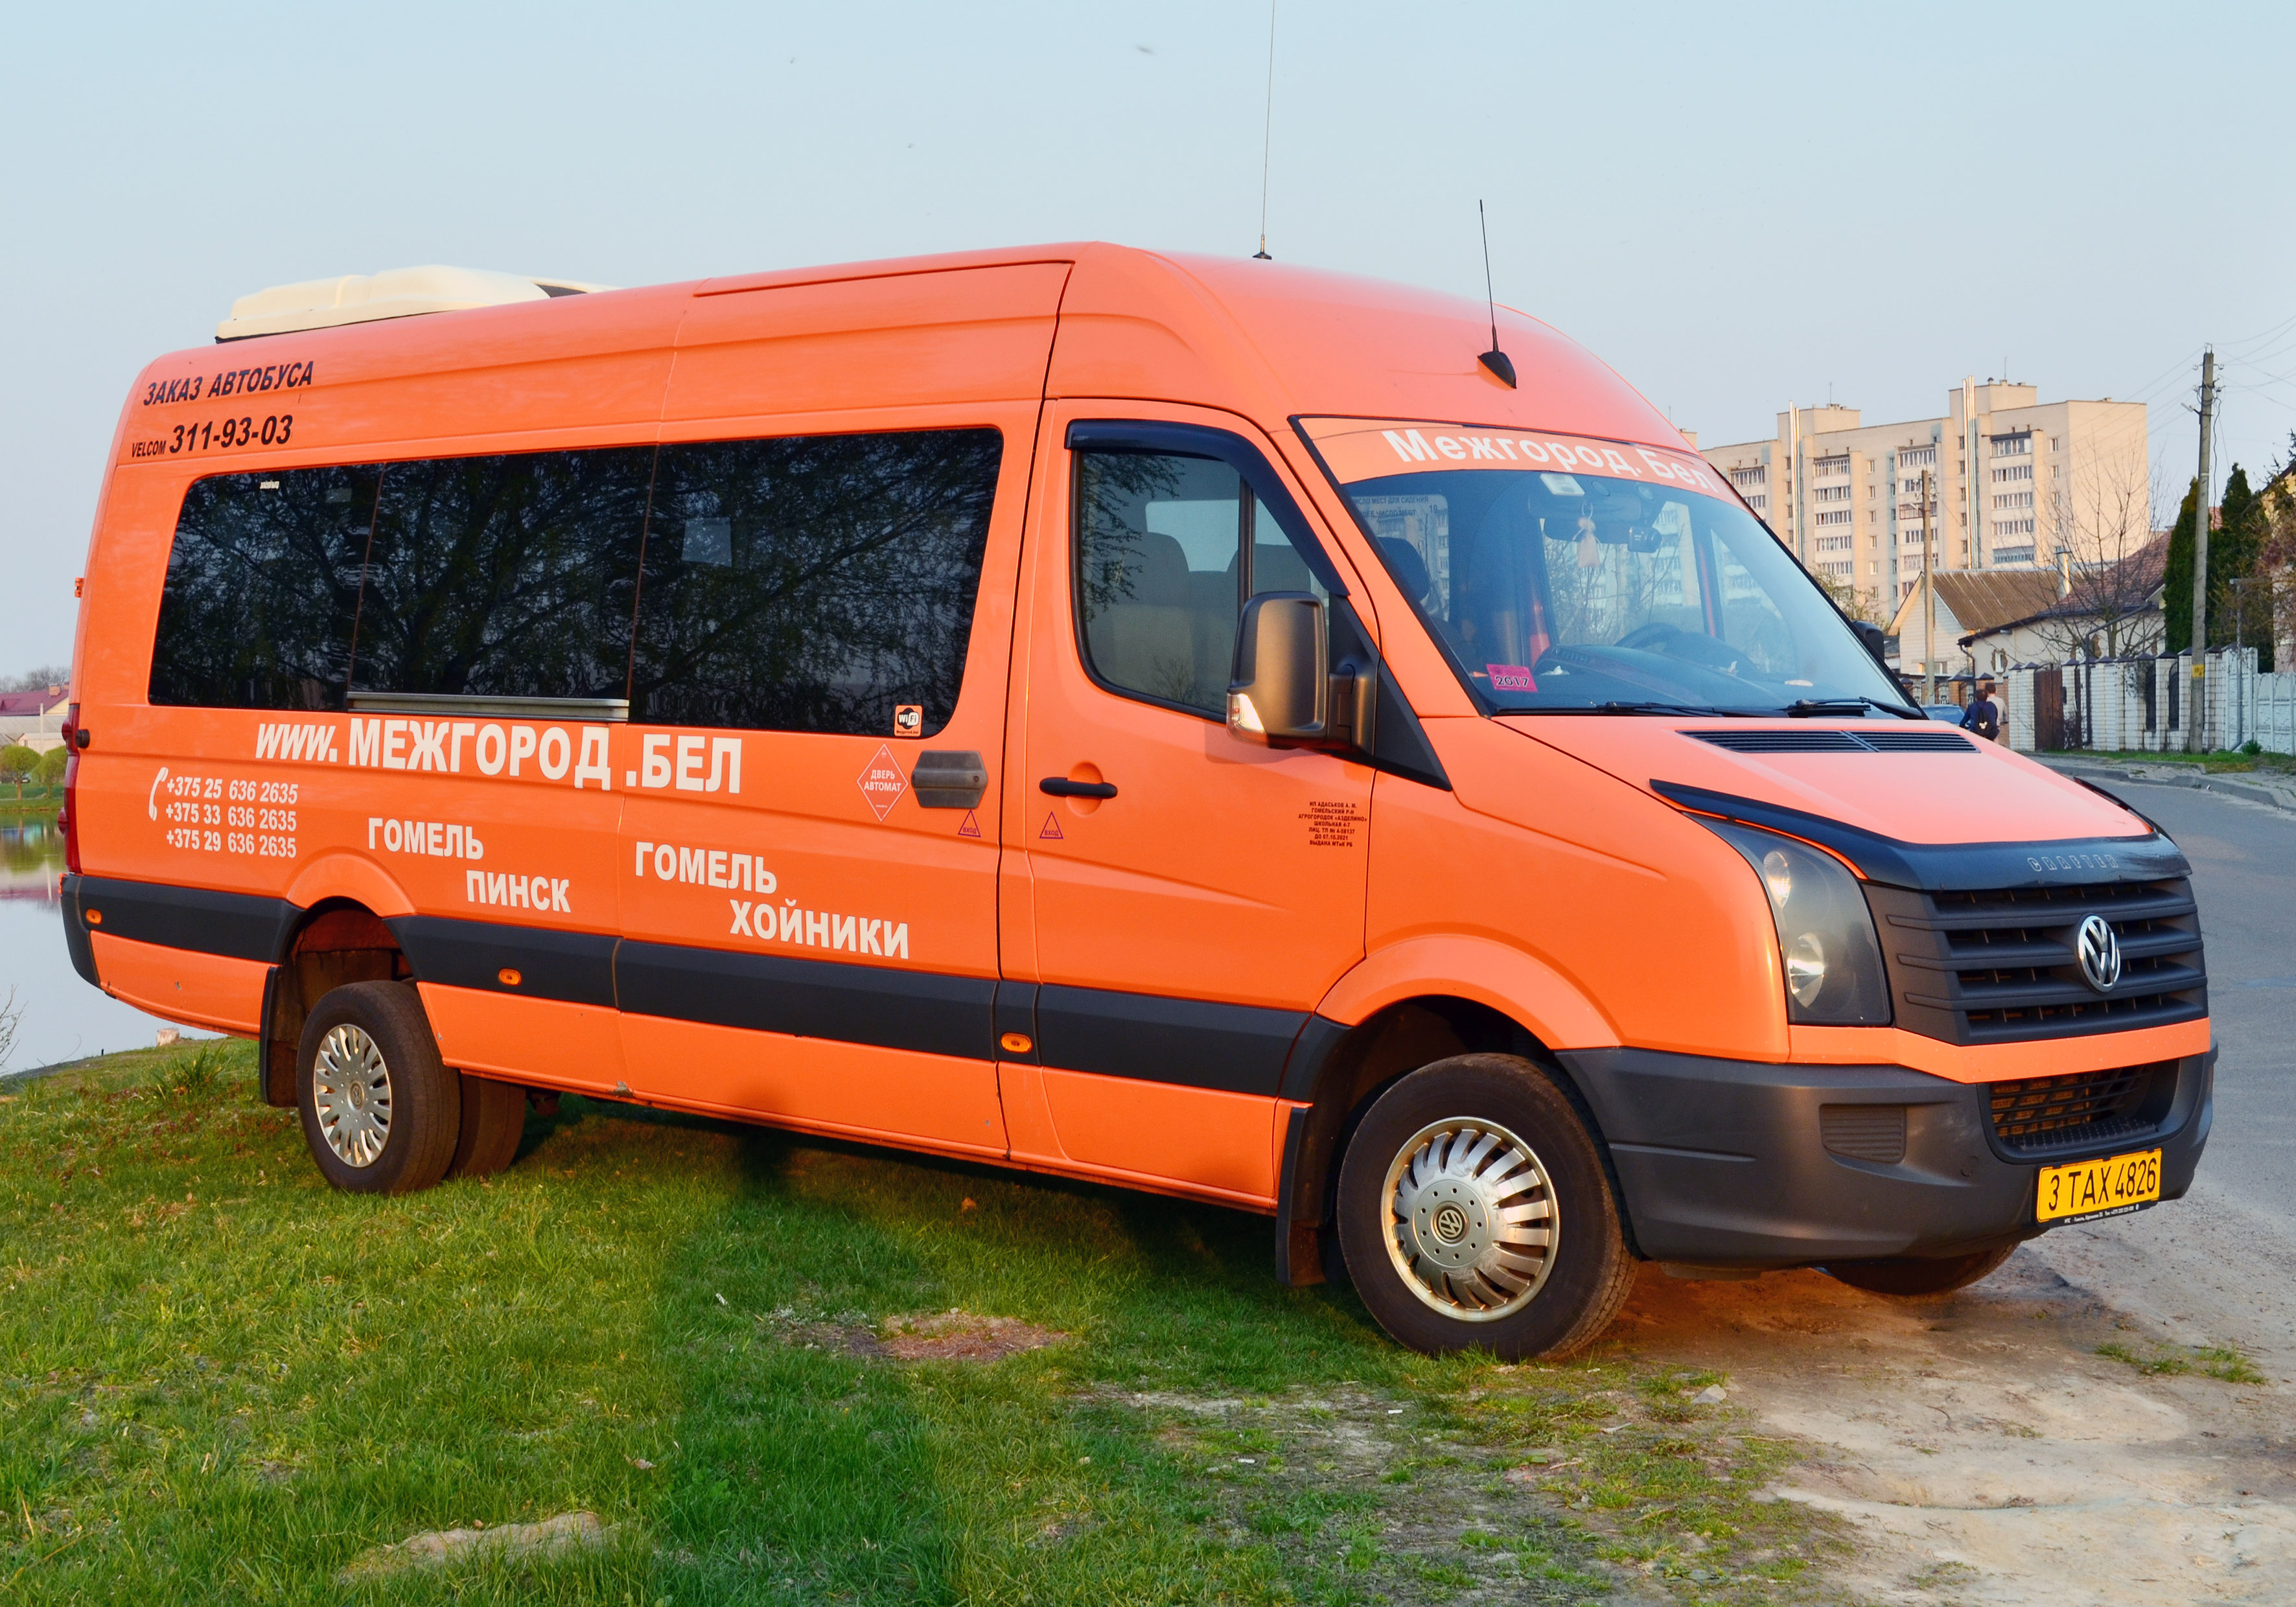van: (52, 236, 2219, 1382)
